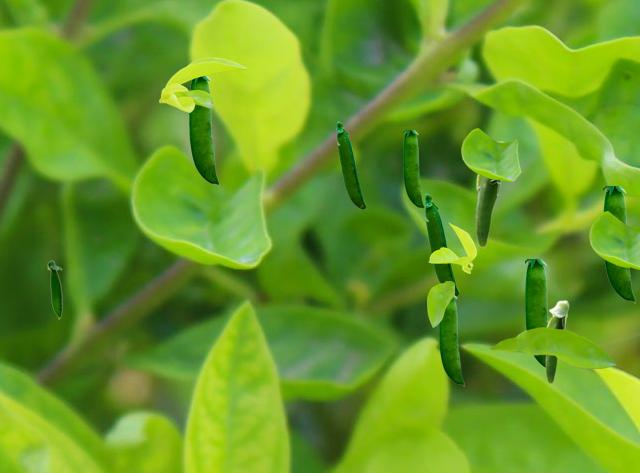pea: (603, 186, 634, 302), (424, 193, 458, 295), (189, 76, 218, 185), (475, 141, 504, 247), (336, 121, 365, 208), (525, 259, 548, 367), (439, 294, 463, 385), (545, 300, 568, 383), (403, 130, 423, 208), (47, 260, 61, 319)
